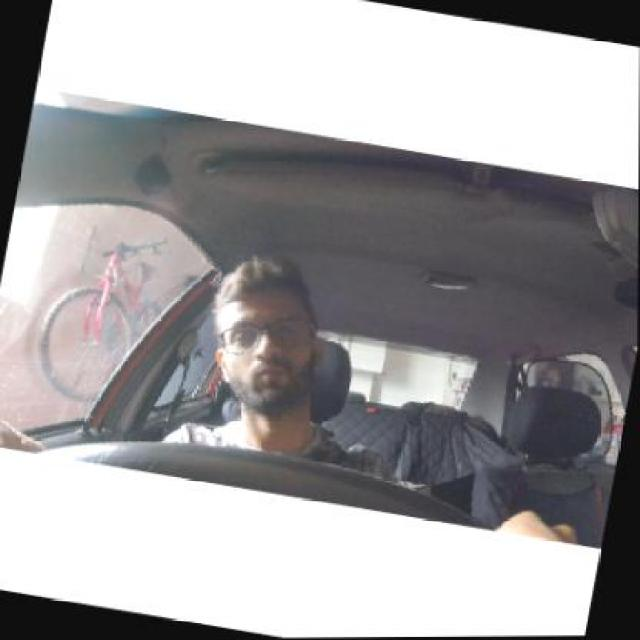LeftRight: (210, 252, 332, 419)
